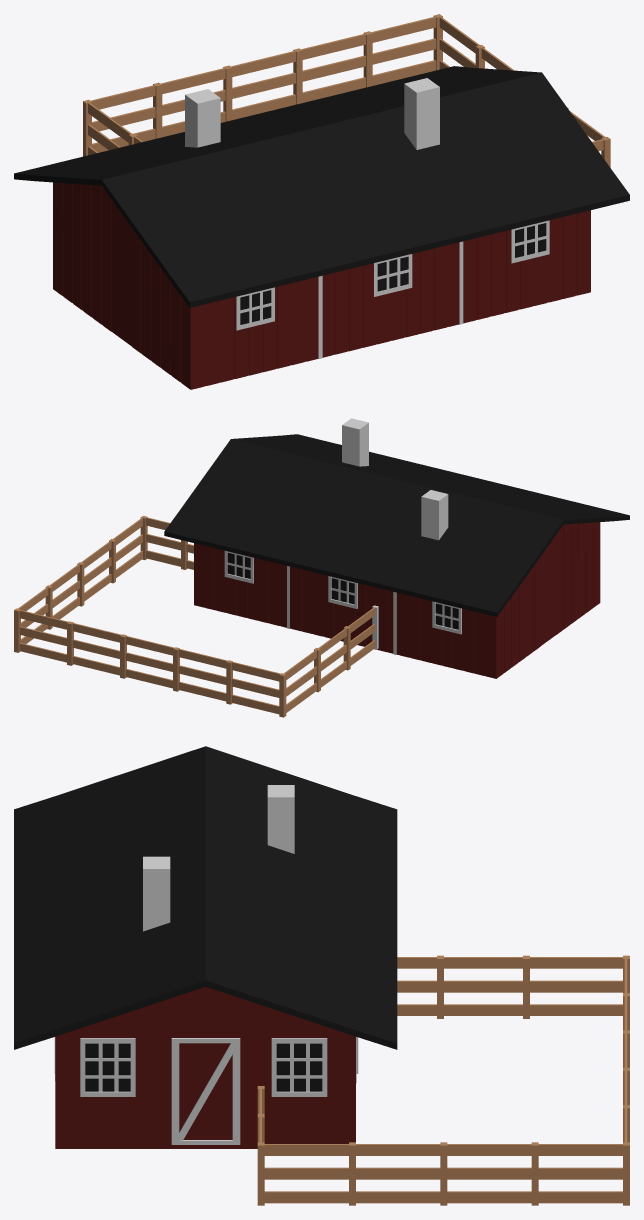
The model's file is Farm.obj.
3 views of the same model, one above another, from view 1: azimuth 30°, elevation 25°; view 2: azimuth 150°, elevation 25°; view 3: azimuth 270°, elevation 25° (orthographic). The views are drawn at different scales.
Visible parts, largest first — view 1: Object002, Box20286, Box20323, Box20264, Box20260, Box20259, Box20328, Box20314, Plane012, Plane011, Plane013, Box20327; view 2: Object002, Box20286, Box20323, Box20260, Box20264, Box20328, Box20259, Box20314, Box20320, Box20324, Box20327, Box20261 (+2 smaller); view 3: Object002, Box20286, Box20320, Box20324, Box20314, Box20261, Box20256, Box20327, Box20287, Box20259, Box20328, Plane010 (+5 smaller).
Boxes of the visible parts, left/top/right/bottom form: Object002: left=14, top=66, right=629, bottom=307; Box20286: left=53, top=182, right=590, bottom=389; Box20323: left=90, top=16, right=436, bottom=109; Box20264: left=92, top=38, right=436, bottom=131; Box20260: left=92, top=60, right=436, bottom=152; Box20259: left=404, top=78, right=439, bottom=149; Box20328: left=185, top=89, right=220, bottom=147; Box20314: left=439, top=17, right=604, bottom=140; Plane012: left=377, top=256, right=408, bottom=291; Plane011: left=240, top=290, right=271, bottom=324; Plane013: left=515, top=223, right=546, bottom=257; Box20327: left=88, top=102, right=142, bottom=143; Object002: left=164, top=434, right=629, bottom=616; Box20286: left=194, top=522, right=600, bottom=678; Box20323: left=19, top=610, right=280, bottom=681; Box20260: left=19, top=643, right=279, bottom=714; Box20264: left=19, top=626, right=279, bottom=697; Box20328: left=421, top=490, right=448, bottom=540; Box20259: left=342, top=418, right=368, bottom=466; Box20314: left=18, top=518, right=142, bottom=611; Box20320: left=21, top=534, right=142, bottom=627; Box20324: left=21, top=551, right=142, bottom=643; Box20327: left=284, top=607, right=375, bottom=679; Box20261: left=286, top=624, right=375, bottom=696; Object002: left=14, top=746, right=397, bottom=1049; Box20286: left=55, top=987, right=355, bottom=1148; Box20320: left=264, top=1167, right=622, bottom=1179; Box20324: left=264, top=1191, right=622, bottom=1203; Box20314: left=264, top=1144, right=622, bottom=1155; Box20261: left=397, top=980, right=622, bottom=992; Box20256: left=397, top=1004, right=622, bottom=1015; Box20327: left=397, top=957, right=622, bottom=968; Box20287: left=171, top=1038, right=240, bottom=1144; Box20259: left=143, top=856, right=170, bottom=931; Box20328: left=267, top=785, right=294, bottom=853; Plane010: left=85, top=1043, right=130, bottom=1091.
Size of the model in its own units: 14992 by 5467 by 13778.
